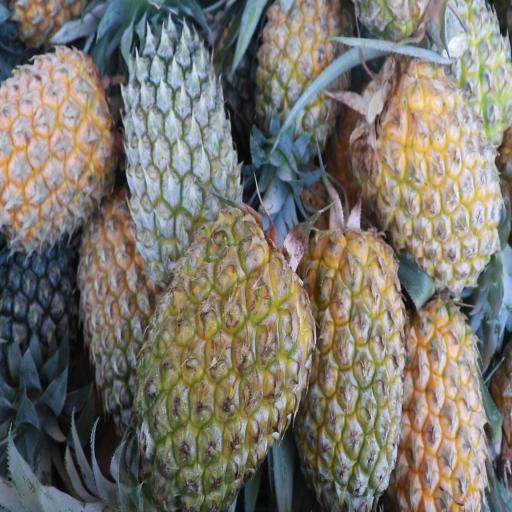------------------------------: (77, 206, 166, 418), (257, 2, 348, 144)
Pineapple - v8 v1: (140, 211, 305, 506), (304, 223, 406, 499), (366, 67, 496, 270), (0, 45, 121, 234), (405, 296, 488, 512)
